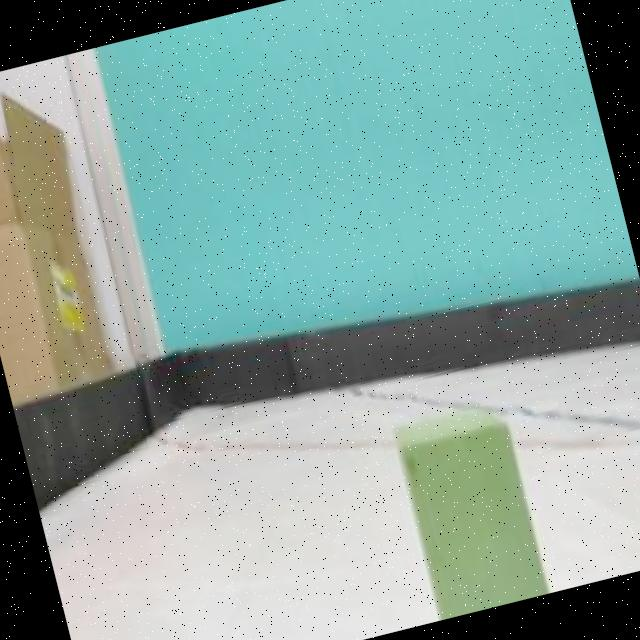greenbox: (384, 393, 552, 621)
